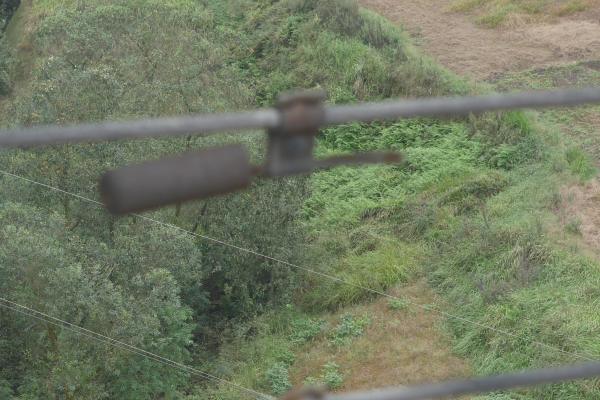damper_defect: (90, 80, 410, 220)
